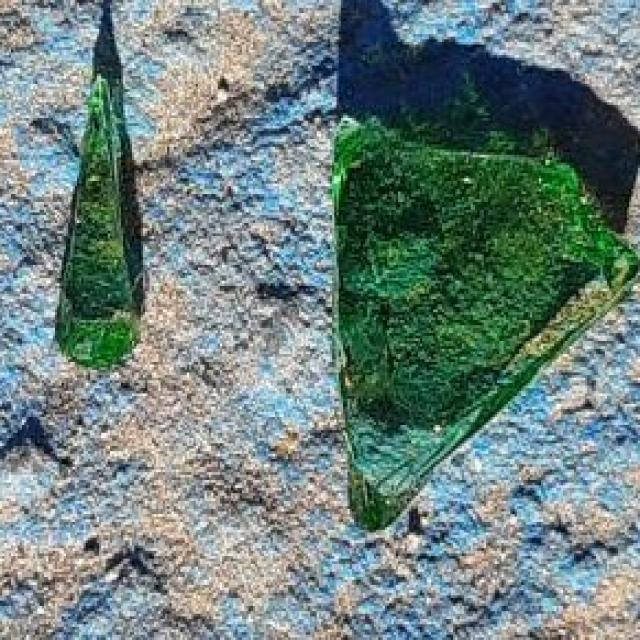Dry: (334, 130, 625, 317), (48, 72, 144, 371), (342, 315, 543, 422), (358, 394, 458, 534)
